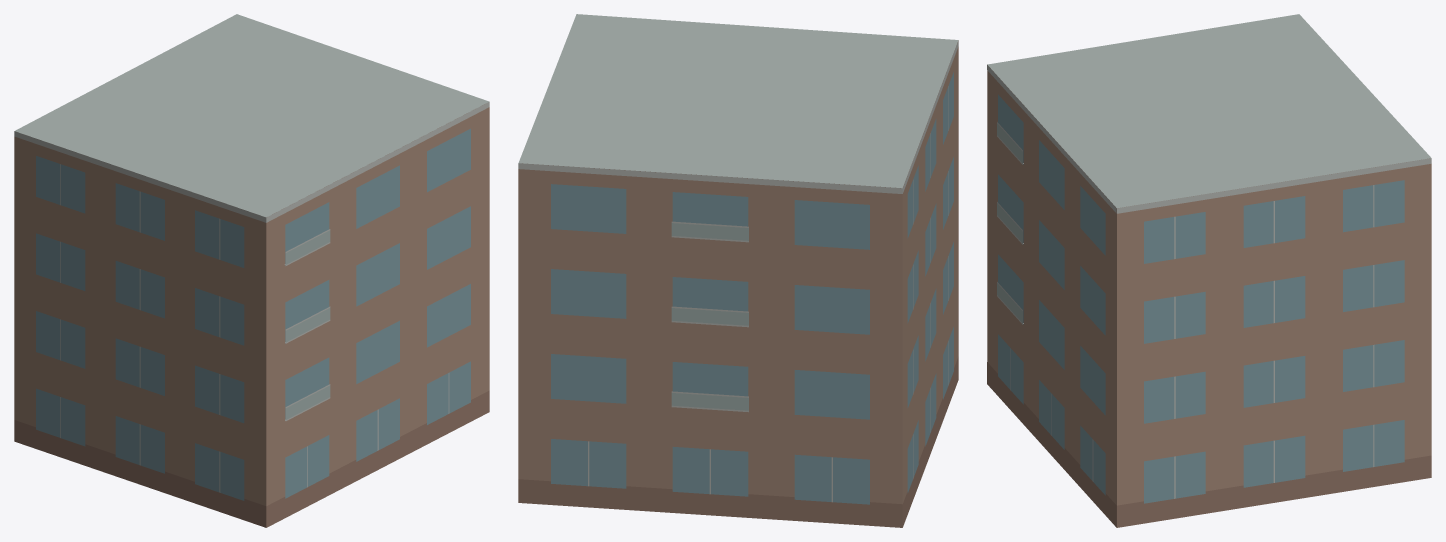
Rendered from survey-upis-32863925.glb.
3 renders of one model, left to right at view 1: azimuth 30°, elevation 25°; view 2: azimuth 150°, elevation 25°; view 3: azimuth 270°, elevation 25°, orthographic. The views are drawn at different scales.
Parts seen in each view (by area): view 1: survey-upis-32863925.tmp; view 2: survey-upis-32863925.tmp; view 3: survey-upis-32863925.tmp.
Boxes of the visible parts, x1,y1,x2,y2 form: survey-upis-32863925.tmp: [14, 14, 489, 527]; survey-upis-32863925.tmp: [518, 14, 958, 527]; survey-upis-32863925.tmp: [987, 14, 1431, 527].
Size of the model in its own units: 18.19 by 13.95 by 17.59.
